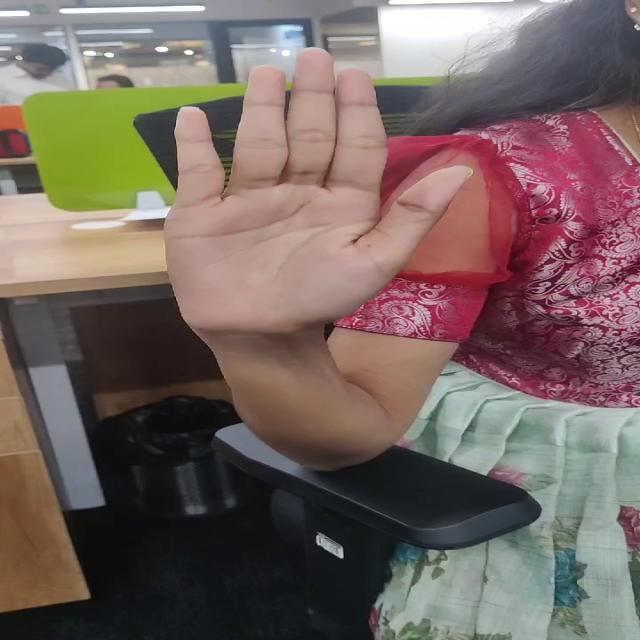no-gloves: (154, 44, 478, 351)
